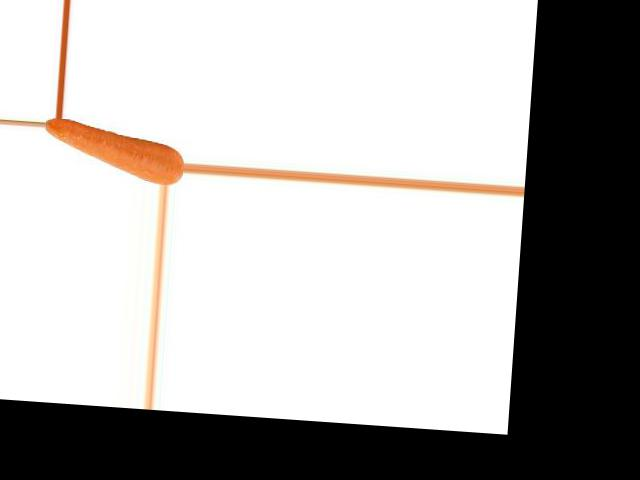carrot: (41, 117, 185, 185)
